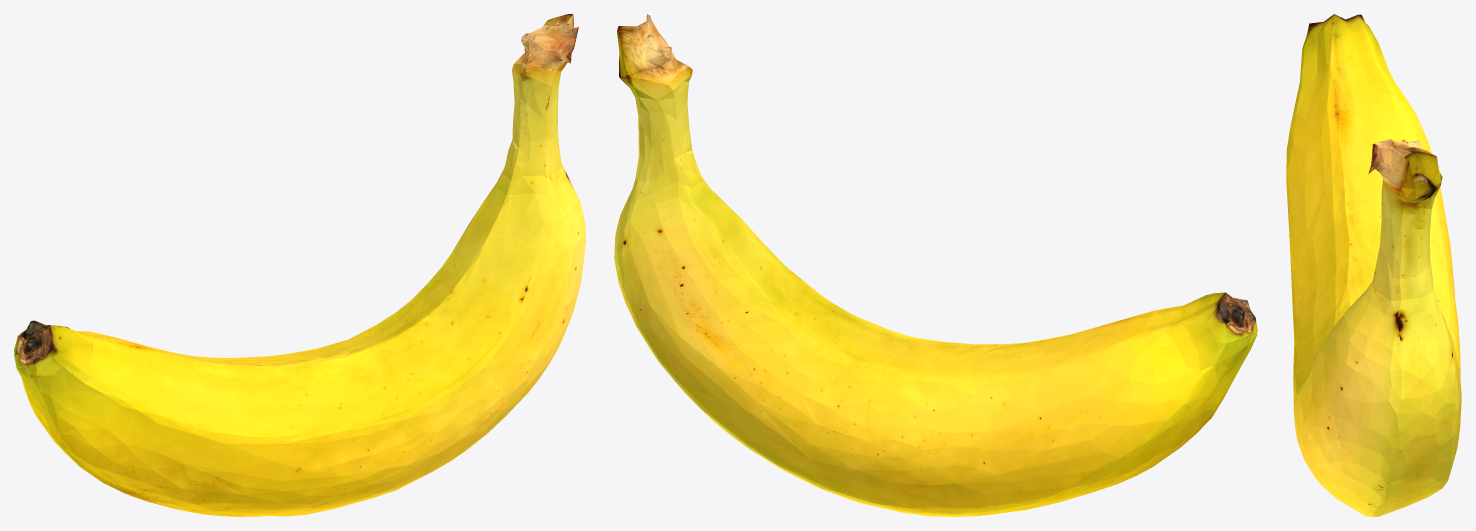
Rendered from banana-v1.glb.
The picture shows the model from 3 angles, left to right: view 1: azimuth 30°, elevation 25°; view 2: azimuth 150°, elevation 25°; view 3: azimuth 270°, elevation 25°; orthographic projection. The views are drawn at different scales.
Parts seen in each view (by area): view 1: banana; view 2: banana; view 3: banana.
Part boxes in pixels (<box>): banana: <box>14,14,585,516</box>; banana: <box>614,14,1257,516</box>; banana: <box>1286,14,1461,516</box>.
Bounding box in the file's own units: 6.73 × 4.55 × 1.54.
1 material, 1 textured.
